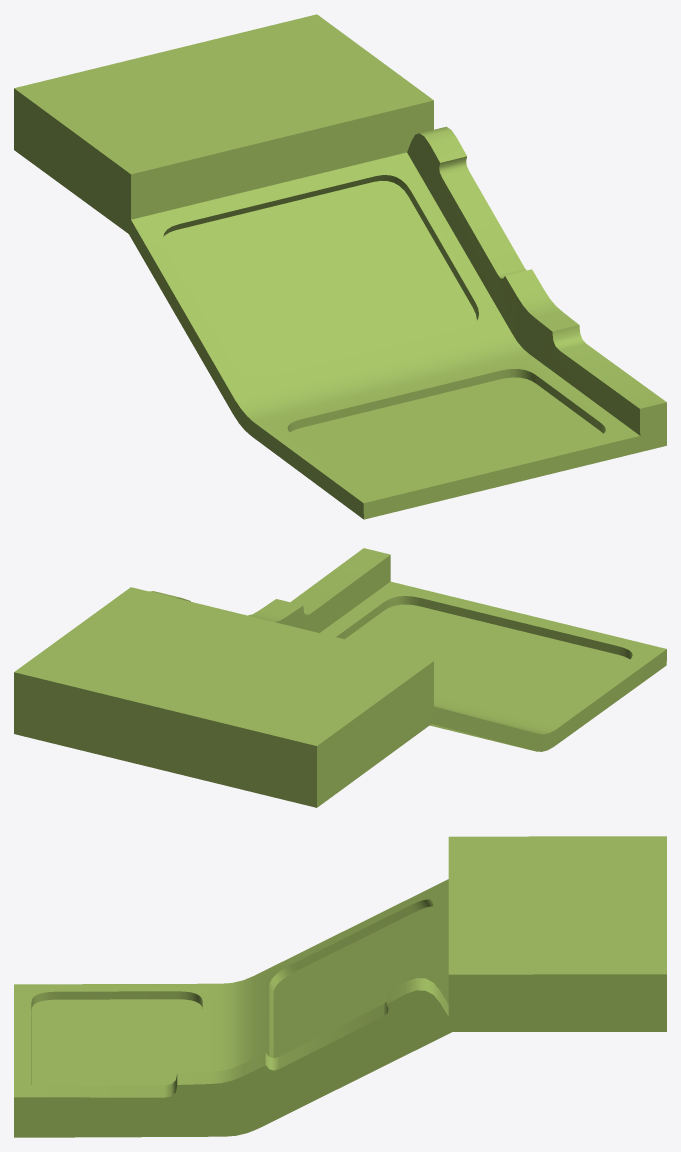
File: UnderFloor_A_Mid.FBX
3 renders of one model, top to bottom at view 1: azimuth 30°, elevation 25°; view 2: azimuth 150°, elevation 25°; view 3: azimuth 270°, elevation 25°, orthographic. The views are drawn at different scales.
Parts seen in each view (by area): view 1: UnderFloor_A_Mid; view 2: UnderFloor_A_Mid; view 3: UnderFloor_A_Mid.
Part boxes in pixels (box(x1,y1,x2,y2)): UnderFloor_A_Mid: box(14, 14, 666, 519); UnderFloor_A_Mid: box(14, 548, 666, 807); UnderFloor_A_Mid: box(14, 836, 666, 1137).
Bounding box in the file's own units: 200 × 111 × 400.
